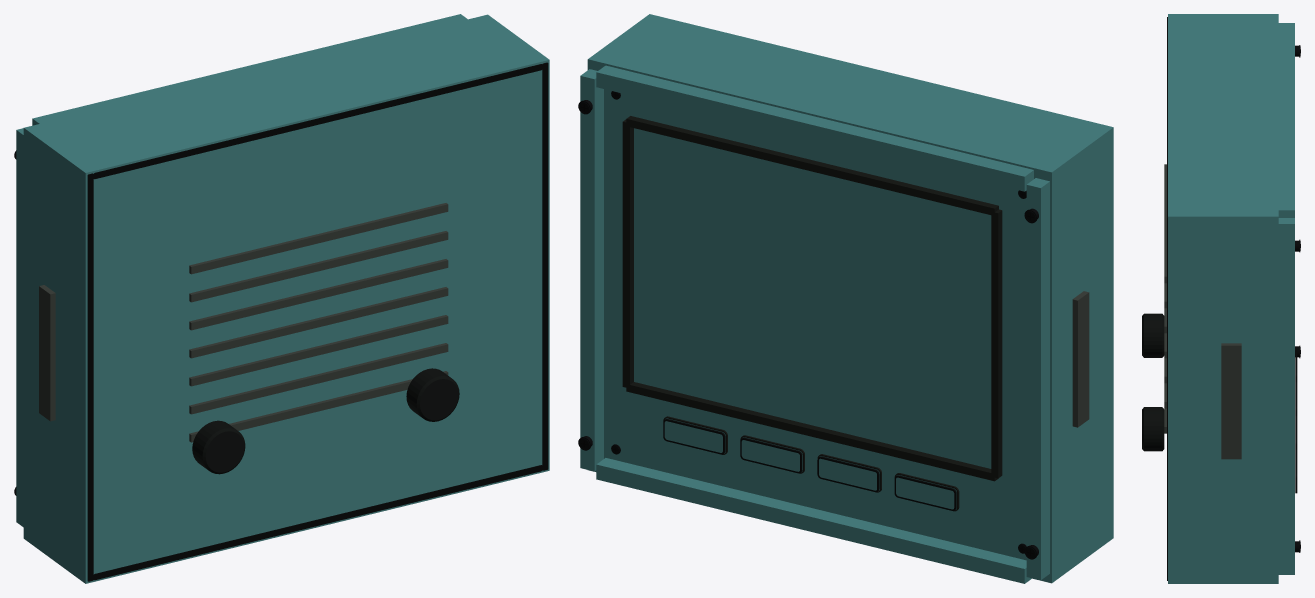
Rendered from MFDStudio.obj.
3 renders of one model, left to right at view 1: azimuth 30°, elevation 25°; view 2: azimuth 150°, elevation 25°; view 3: azimuth 270°, elevation 25°, orthographic. The views are drawn at different scales.
Visible parts, largest first — view 1: MFDStudioBody; view 2: MFDStudioBody, MFDStudioScrews; view 3: MFDStudioBody, MFDStudioScrews.
Boxes of the visible parts, x1,y1,x2,y2 form: MFDStudioBody: [16, 14, 549, 583]; MFDStudioBody: [580, 14, 1113, 583]; MFDStudioScrews: [578, 91, 1038, 559]; MFDStudioBody: [1142, 14, 1297, 583]; MFDStudioScrews: [1295, 45, 1300, 552].
Bounding box in the file's own units: 0.266 × 0.22 × 0.0861.
